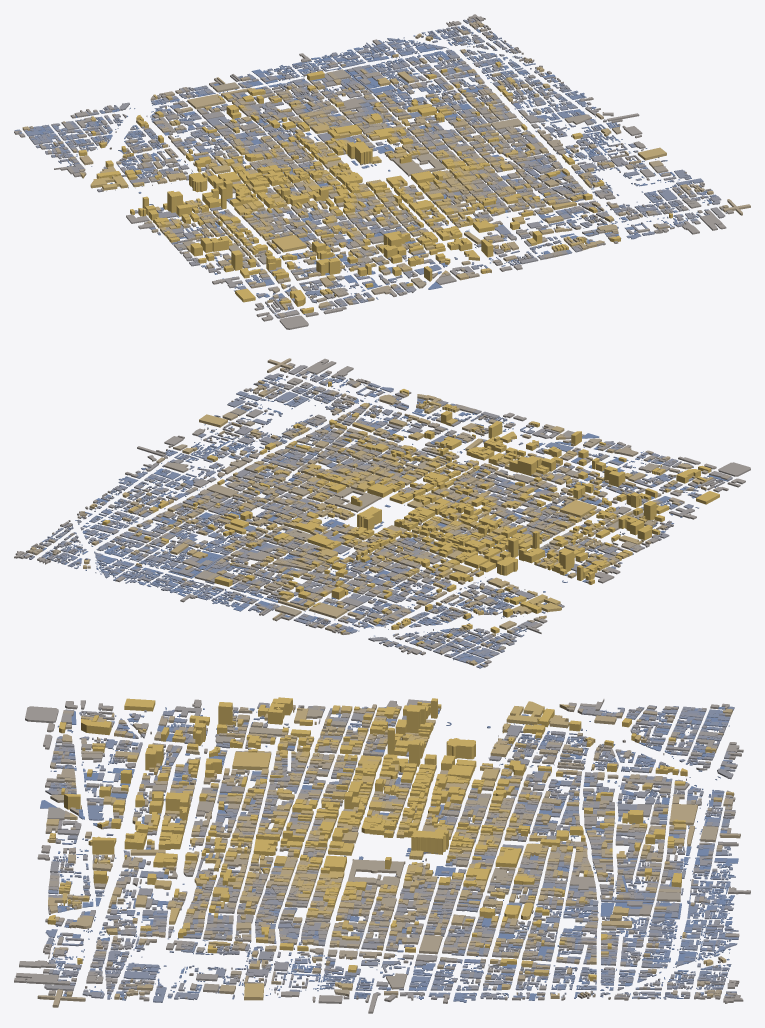
The model's file is buildings.glb.
3 renders of one model, top to bottom at view 1: azimuth 30°, elevation 25°; view 2: azimuth 150°, elevation 25°; view 3: azimuth 270°, elevation 25°, orthographic. The views are drawn at different scales.
Visible parts, largest first — view 1: buildings; view 2: buildings; view 3: buildings.
Boxes of the visible parts, bbox=[...] form: buildings: bbox=[14, 14, 750, 329]; buildings: bbox=[14, 358, 750, 668]; buildings: bbox=[14, 697, 750, 1013].
Bounding box in the file's own units: 2815 × 120 × 2803.
